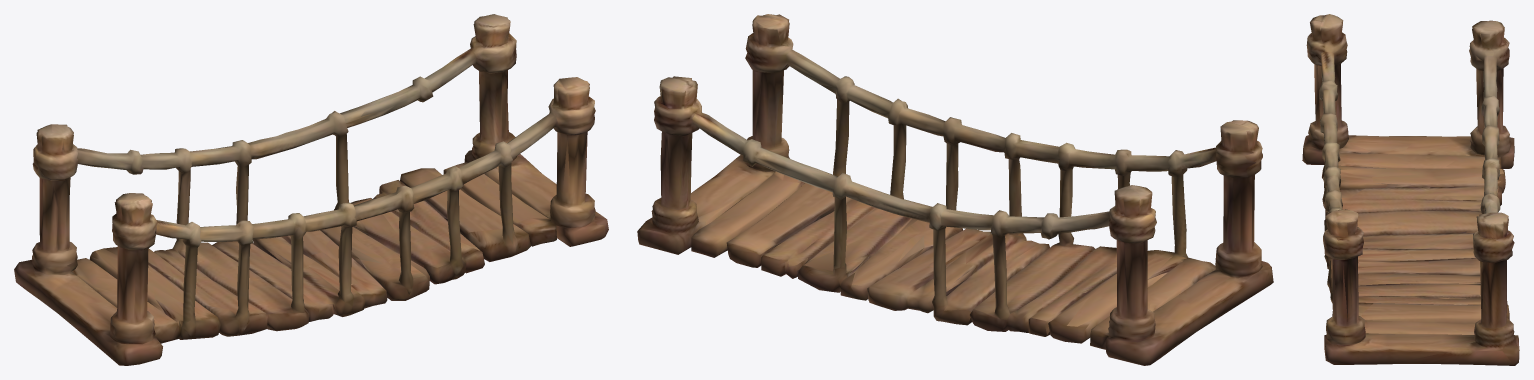
Rendered from c05_ponte_corda.glb.
The picture shows the model from 3 angles, left to right: view 1: azimuth 30°, elevation 25°; view 2: azimuth 150°, elevation 25°; view 3: azimuth 270°, elevation 25°; orthographic projection. The views are drawn at different scales.
Visible parts, largest first — view 1: c05_ponte_corda; view 2: c05_ponte_corda; view 3: c05_ponte_corda.
Boxes of the visible parts, x1,y1,x2,y2 form: c05_ponte_corda: [14, 14, 608, 365]; c05_ponte_corda: [637, 14, 1273, 365]; c05_ponte_corda: [1302, 14, 1519, 365].
Bounding box in the file's own units: 3.48 × 1.14 × 1.46.
1 material, 1 textured.
